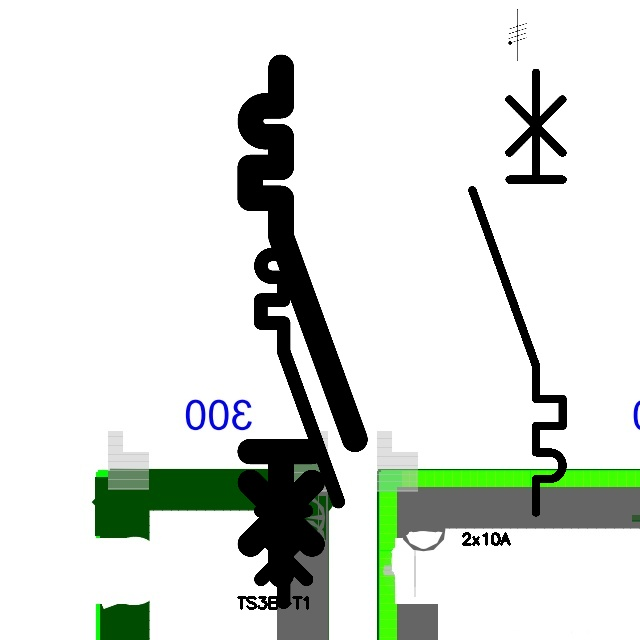interruptor_termomagnetico: (237, 54, 367, 587), (461, 61, 574, 523), (251, 216, 348, 612)
